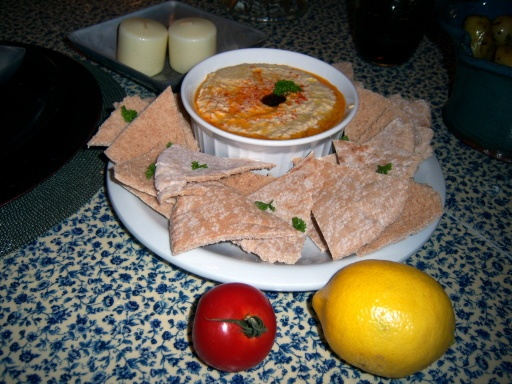background: (117, 73, 366, 227), (70, 37, 355, 158), (68, 54, 222, 223), (124, 38, 278, 84)
